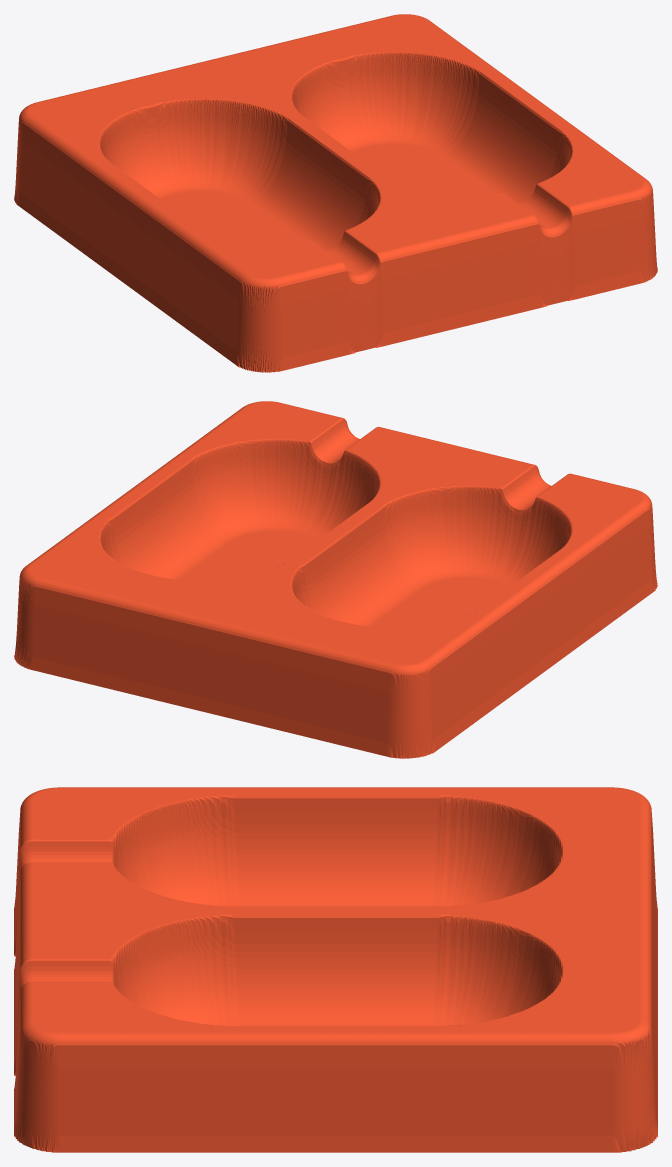
The model's file is mold.glb.
3 views of the same model, one above another, from view 1: azimuth 30°, elevation 25°; view 2: azimuth 150°, elevation 25°; view 3: azimuth 270°, elevation 25° (orthographic). The views are drawn at different scales.
Parts seen in each view (by area): view 1: geometry_0; view 2: geometry_0; view 3: geometry_0.
Boxes of the visible parts, left/top/right/bottom form: geometry_0: left=14, top=14, right=657, bottom=372; geometry_0: left=14, top=401, right=657, bottom=758; geometry_0: left=14, top=787, right=657, bottom=1152.
Size of the model in its own units: 0.1217 by 0.0245 by 0.1276.
